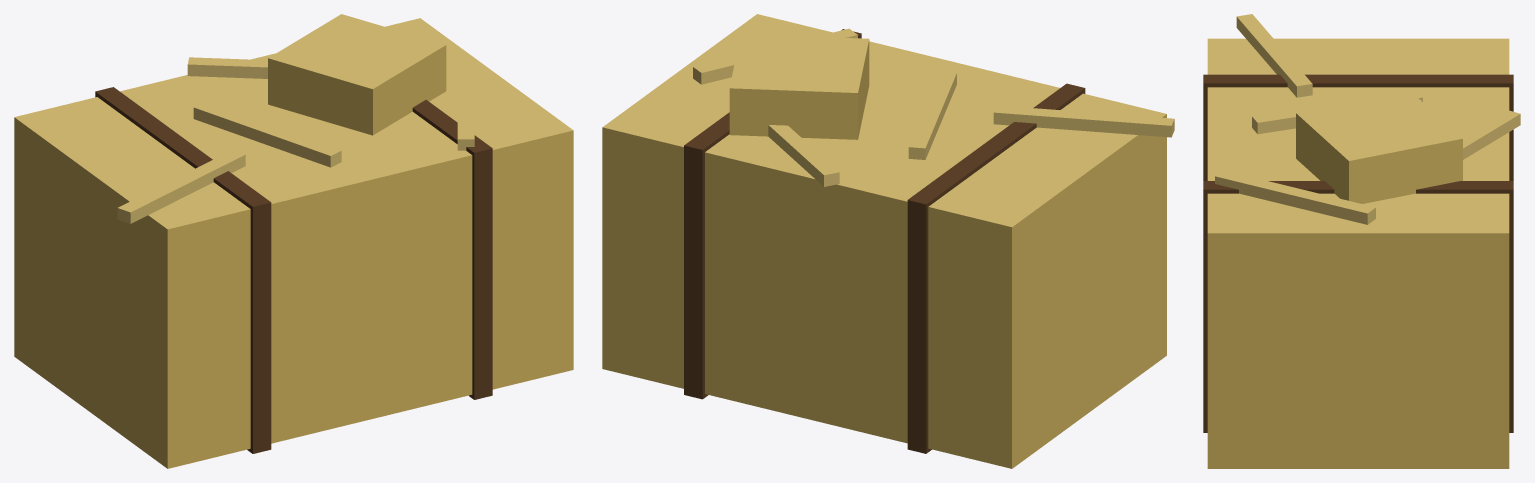
The model's file is fardo_nitro.obj.
3 renders of one model, left to right at view 1: azimuth 30°, elevation 25°; view 2: azimuth 150°, elevation 25°; view 3: azimuth 270°, elevation 25°, orthographic. The views are drawn at different scales.
Visible parts, largest first — view 1: fardo_nitro; view 2: fardo_nitro; view 3: fardo_nitro.
Boxes of the visible parts, x1,y1,x2,y2 form: fardo_nitro: (14,14,573,468); fardo_nitro: (602,14,1174,468); fardo_nitro: (1203,14,1520,468).
Bounding box in the file's own units: 1.17 × 0.75 × 0.7568.
